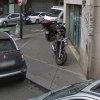Motorcycle: (37, 15, 70, 67)
